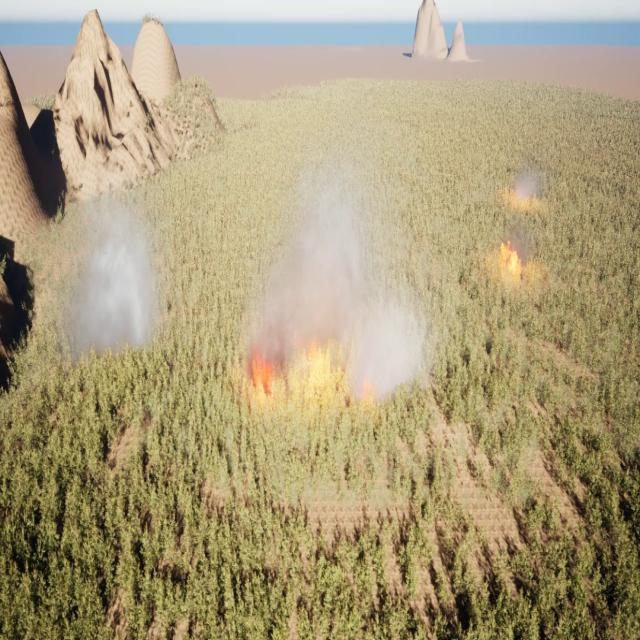fire: (296, 327, 344, 388), (248, 344, 279, 394), (499, 240, 523, 272), (360, 374, 374, 406)
smoke: (240, 119, 431, 403), (55, 187, 171, 357), (512, 169, 544, 203), (511, 228, 533, 272)
